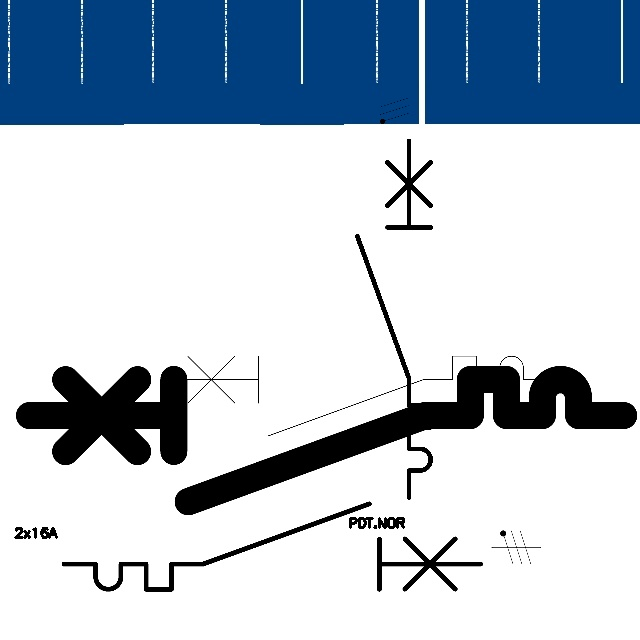interruptor_termomagnetico: (14, 364, 639, 517), (53, 493, 492, 600), (154, 346, 563, 446), (348, 131, 440, 506)
